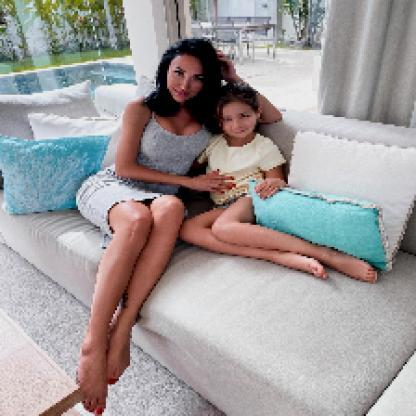child: (184, 83, 379, 286)
